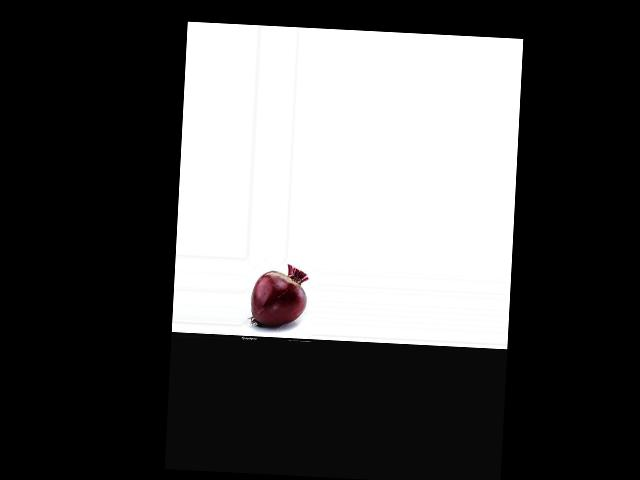beet: (250, 263, 309, 328)
